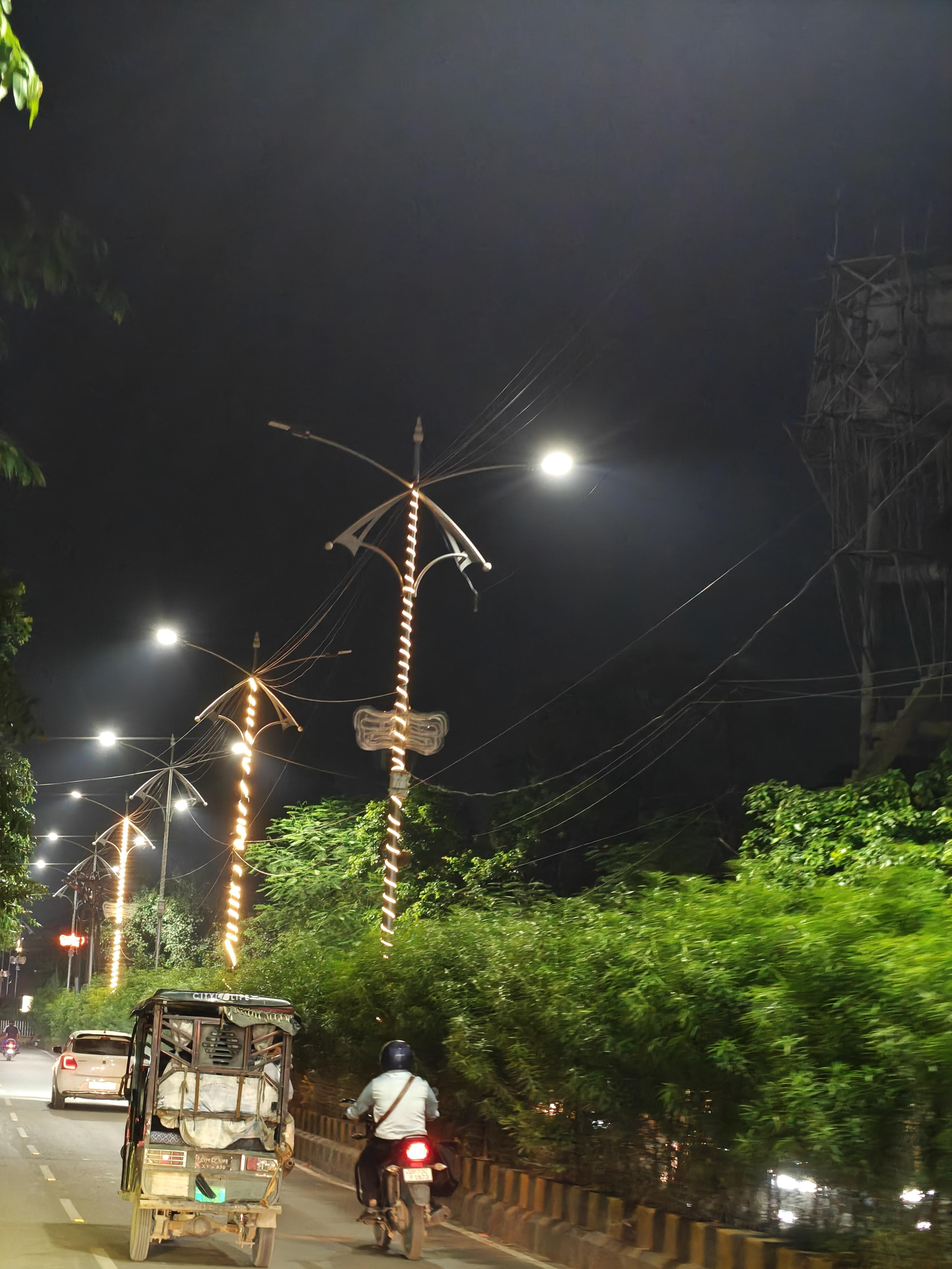streetlight: (266, 415, 404, 486)
